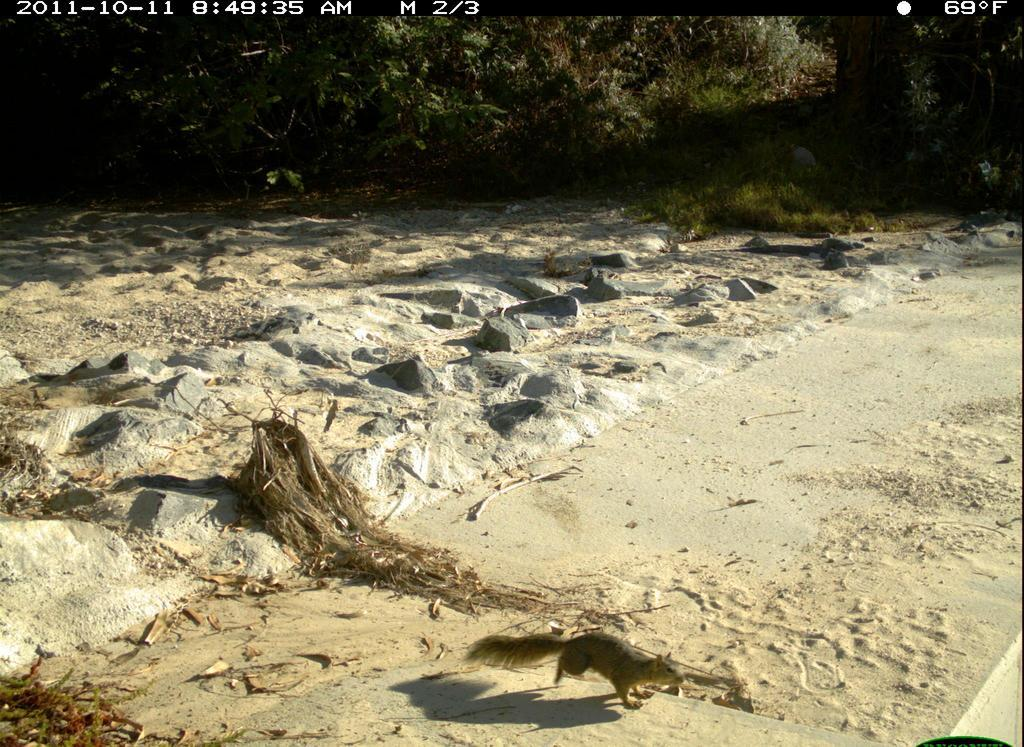squirrel: (473, 594, 703, 726)
